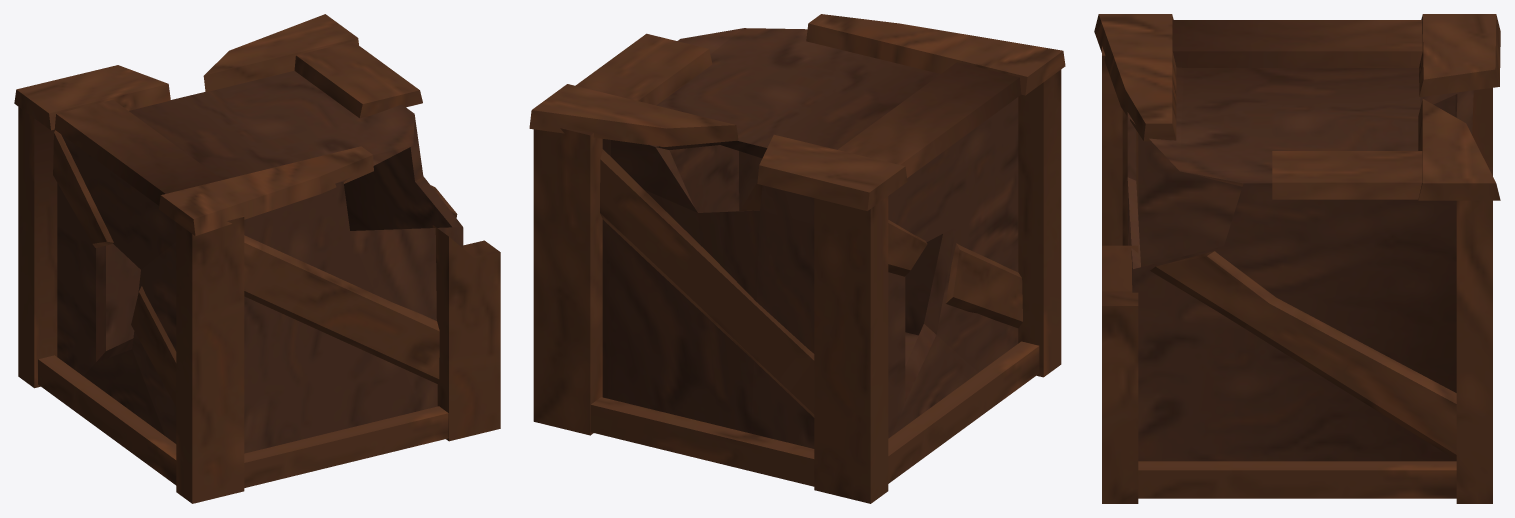
The model's file is Caixa_1_quebrada.glb.
The picture shows the model from 3 angles, left to right: view 1: azimuth 30°, elevation 25°; view 2: azimuth 150°, elevation 25°; view 3: azimuth 270°, elevation 25°; orthographic projection. The views are drawn at different scales.
Parts seen in each view (by area): view 1: Caixa.1.quebrada; view 2: Caixa.1.quebrada; view 3: Caixa.1.quebrada.
Boxes of the visible parts, left/top/right/bottom form: Caixa.1.quebrada: left=14, top=14, right=500, bottom=503; Caixa.1.quebrada: left=529, top=14, right=1065, bottom=503; Caixa.1.quebrada: left=1094, top=14, right=1500, bottom=503.
Bounding box in the file's own units: 0.964 × 0.8524 × 0.9783.
Materials: 1 (1 with a texture image).
